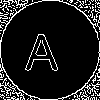A: (25, 25, 59, 70)
